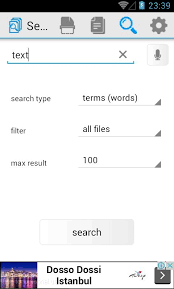searchIcon: (116, 12, 140, 37)
